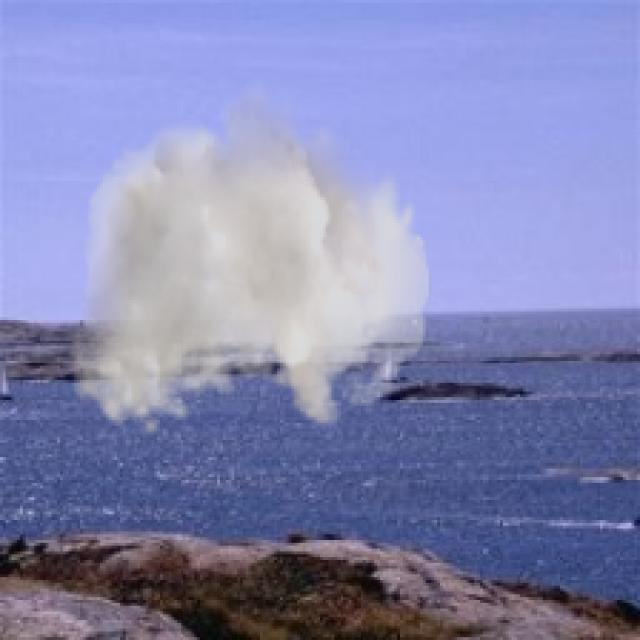smoke: (69, 74, 432, 437)
